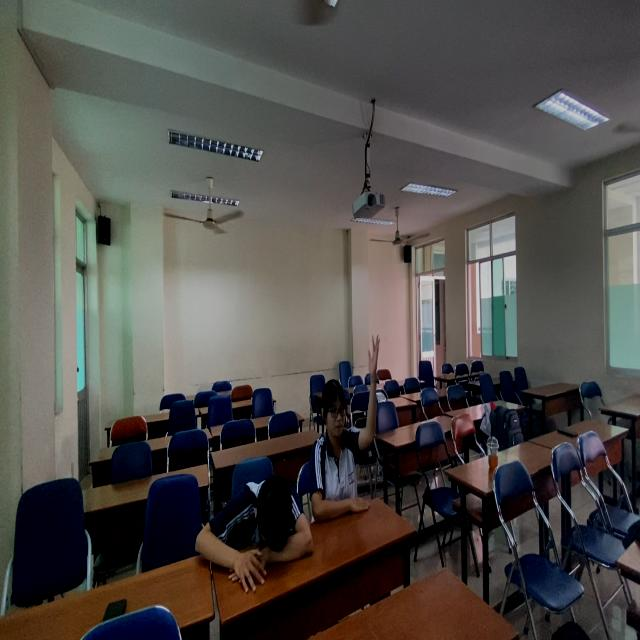raise_hand: (321, 332, 387, 522)
sleep: (192, 464, 323, 599)
